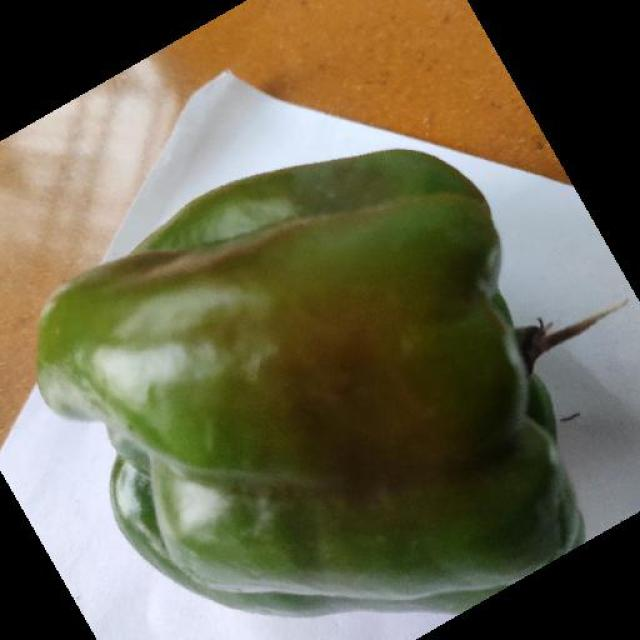Stale_Capsicum: (41, 189, 549, 621)
